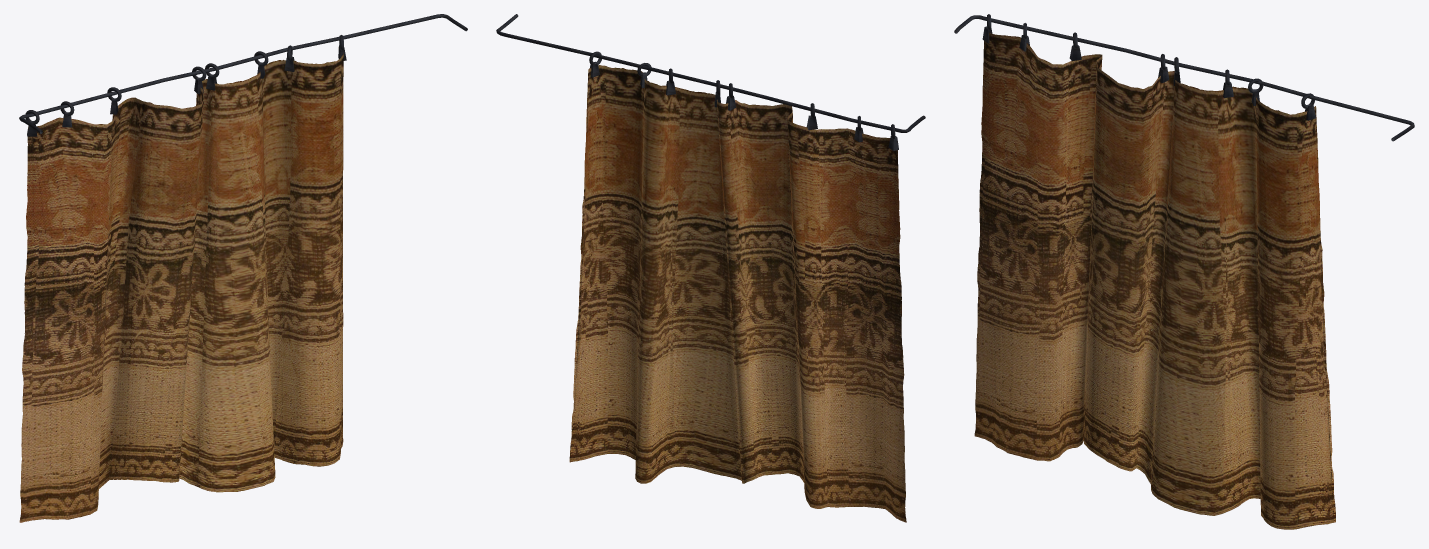
The model's file is curtains_Small01.fbx.
3 renders of one model, left to right at view 1: azimuth 30°, elevation 25°; view 2: azimuth 150°, elevation 25°; view 3: azimuth 330°, elevation 25°, orthographic. The views are drawn at different scales.
Visible parts, largest first — view 1: Low, Hi, polySurface117; view 2: Hi, Low, polySurface117; view 3: Low, Hi, polySurface117.
Part boxes in pixels (x1=…): Low: x1=19, y1=58, x2=343, y2=522; Hi: x1=20, y1=47, x2=343, y2=522; polySurface117: x1=19, y1=14, x2=467, y2=136; Hi: x1=570, y1=65, x2=890, y2=512; Low: x1=569, y1=65, x2=906, y2=522; polySurface117: x1=496, y1=14, x2=925, y2=150; Low: x1=974, y1=34, x2=1335, y2=529; Hi: x1=974, y1=33, x2=1328, y2=528; polySurface117: x1=954, y1=14, x2=1414, y2=141.
Size of the model in its own units: 104 by 98.52 by 16.14.
